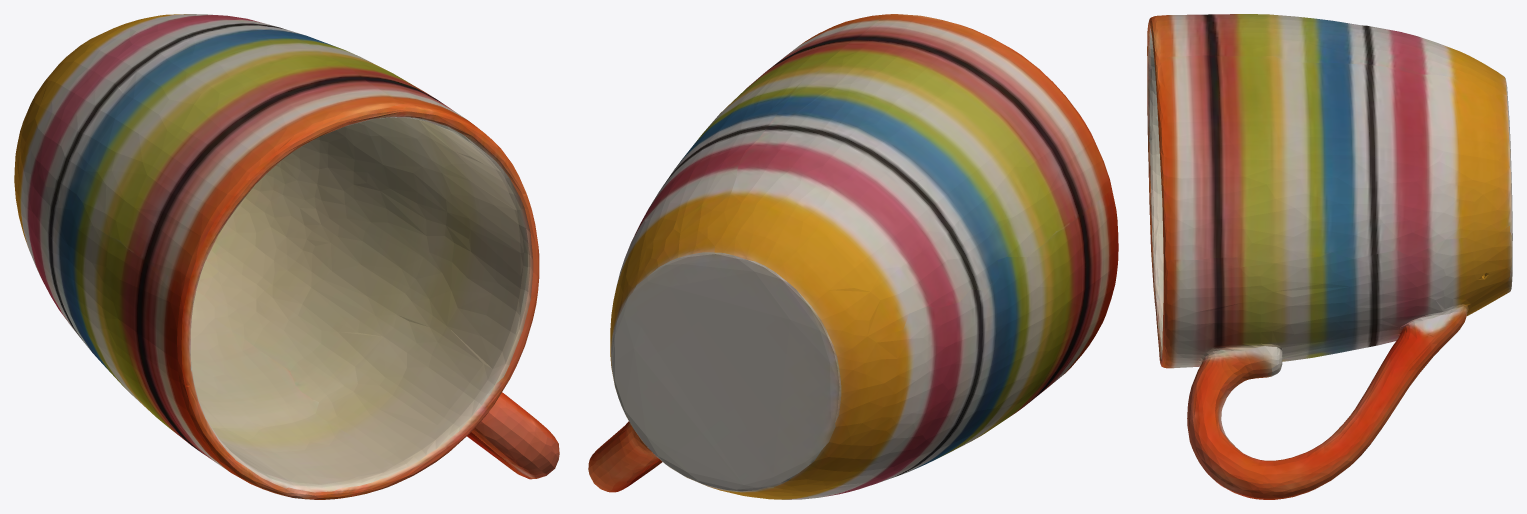
File: mug.glb
The picture shows the model from 3 angles, left to right: view 1: azimuth 30°, elevation 25°; view 2: azimuth 150°, elevation 25°; view 3: azimuth 270°, elevation 25°; orthographic projection. The views are drawn at different scales.
Visible parts, largest first — view 1: geometry_0; view 2: geometry_0; view 3: geometry_0.
Part boxes in pixels (box(x1,y1,x2,y2)): geometry_0: box(14, 14, 559, 499); geometry_0: box(588, 14, 1118, 499); geometry_0: box(1147, 14, 1512, 499).
Bounding box in the file's own units: 0.0812 × 0.0821 × 0.0728.
Materials: 1 (1 with a texture image).
